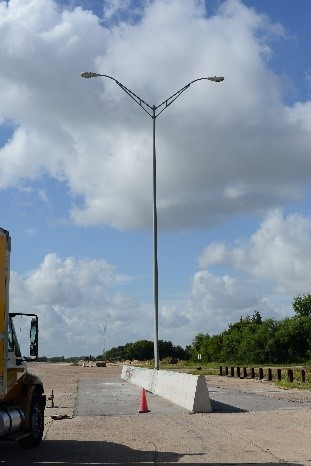light_pole: (146, 112, 166, 378)
